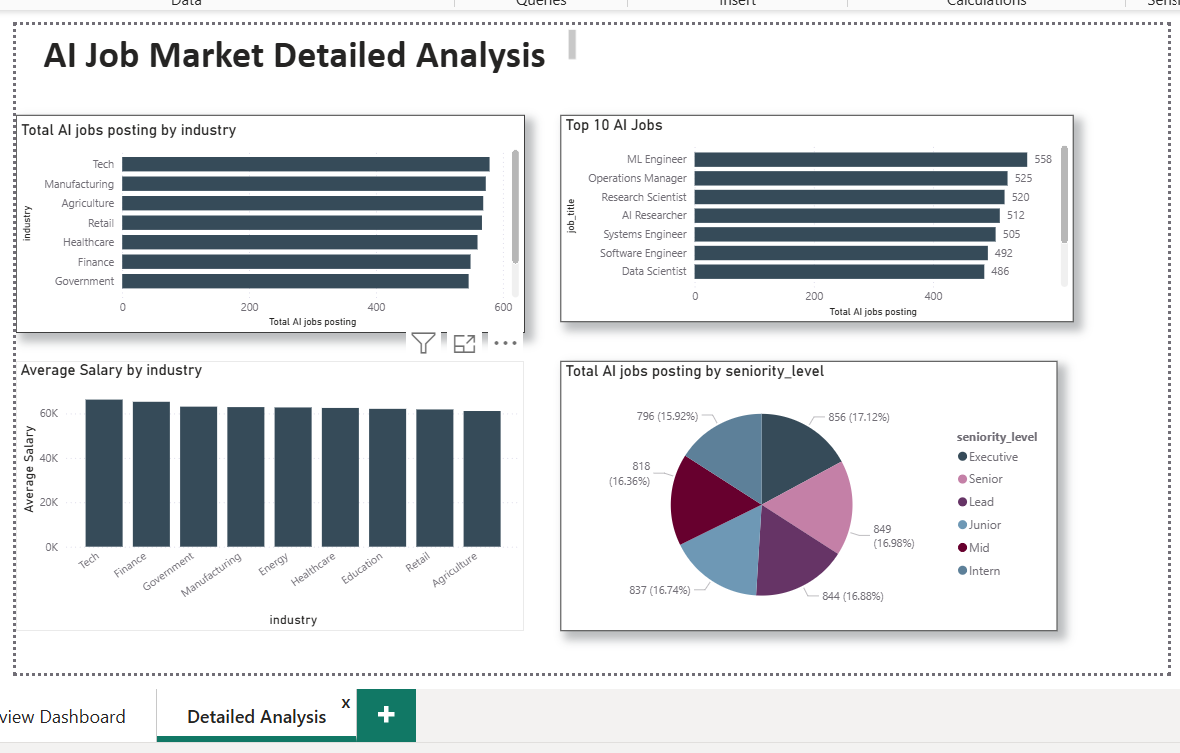

What the dashboard file says about the page in this screenshot:
{"tool":"powerbi","page":{"name":"Detailed Analysis","canvas":[1280,720],"ordinal":1},"visuals":[{"type":"clusteredBarChart","fields":{"Category":["ai_impact_jobs_2010_2025.industry"],"Y":["ai_impact_jobs_2010_2025. Total AI jobs posting"]},"box":[0,100,565,242],"z":0},{"type":"columnChart","fields":{"Category":["ai_impact_jobs_2010_2025.industry"],"Y":["ai_impact_jobs_2010_2025.Average Salary"]},"box":[0,373,565,300],"z":1000},{"type":"pieChart","fields":{"Category":["ai_impact_jobs_2010_2025.seniority_level"],"Y":["ai_impact_jobs_2010_2025. Total AI jobs posting"]},"box":[605,373,552,300],"z":2000},{"type":"barChart","title":"Top 10 AI Jobs ","fields":{"Category":["ai_impact_jobs_2010_2025.job_title"],"Y":["ai_impact_jobs_2010_2025. Total AI jobs posting"]},"box":[605,100,570,230],"z":3000},{"type":"textbox","box":[0,0,627,58],"z":4000}]}

Visuals, with their boxes on the page's 1280x720 design canvas (x1, y1, x2, y2). These are canvas units, not pixel positions in the 1180x753 screenshot, which may show the page scaled, cropped or inside an application window:
clusteredBarChart - ai_impact_jobs_2010_2025.industry x ai_impact_jobs_2010_2025. Total AI jobs posting: box=[0, 100, 565, 342]
columnChart - ai_impact_jobs_2010_2025.industry x ai_impact_jobs_2010_2025.Average Salary: box=[0, 373, 565, 673]
pieChart - ai_impact_jobs_2010_2025.seniority_level x ai_impact_jobs_2010_2025. Total AI jobs posting: box=[605, 373, 1157, 673]
"Top 10 AI Jobs " barChart: box=[605, 100, 1175, 330]
textbox: box=[0, 0, 627, 58]
